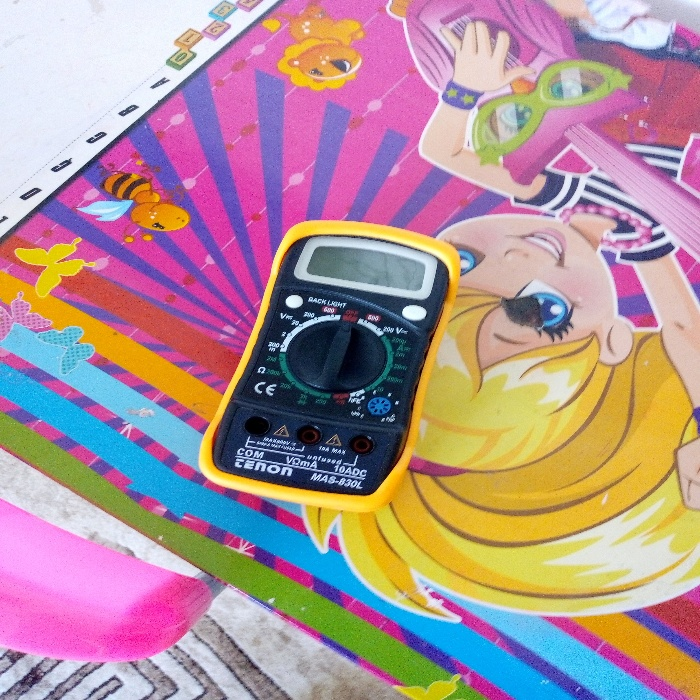multimetre: (196, 198, 449, 516)
